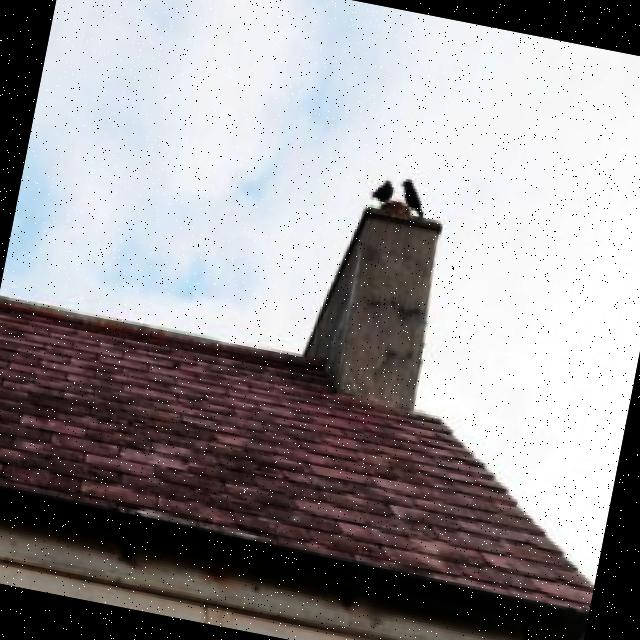bird: (396, 178, 431, 220), (369, 176, 396, 208)
